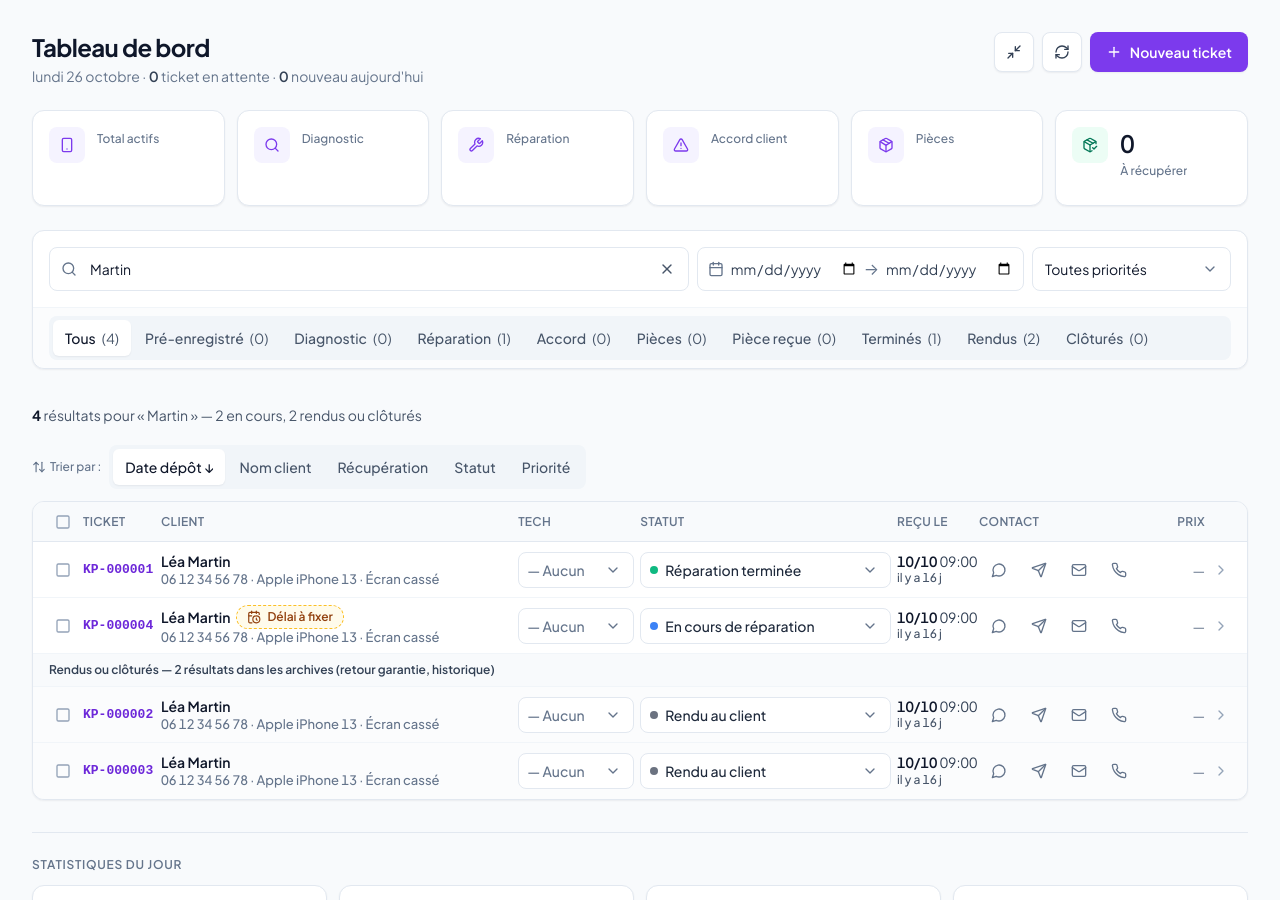
Scenario: DashboardPage : statut en ligne › déjà rendu et réglé, prêt dehors : 409 → panneau qui propose « Prêt récupéré »
Select "Clôturé" in the dropdown named "Statut du ticket KP-000002" at (766, 714), box [640,696,891,732]
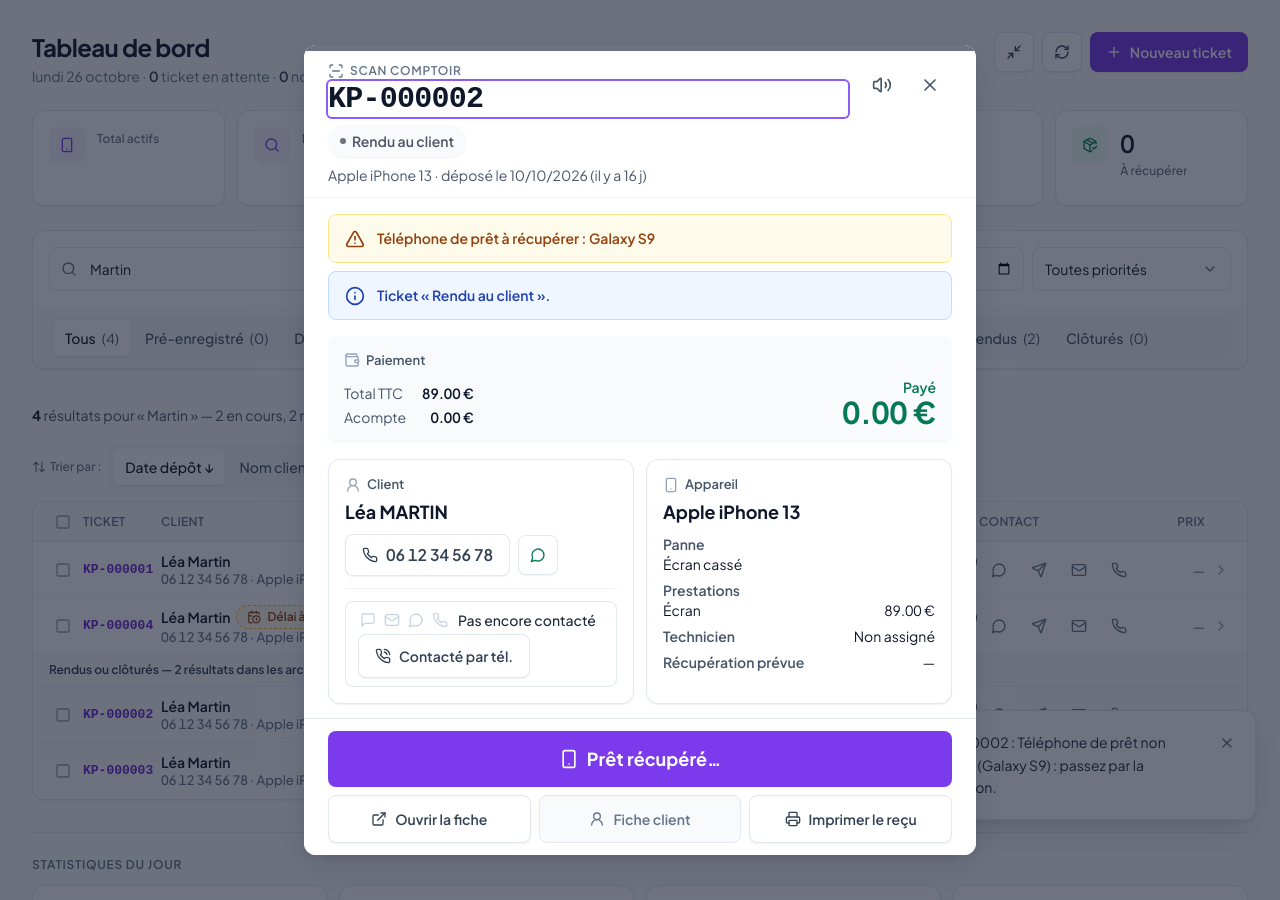
expect the text "Téléphone de prêt à récupérer : Galaxy S9" is shown: met, box [377,227,655,250]
Click the button "Prêt récupéré…" at (640, 759), box [328,731,952,787]
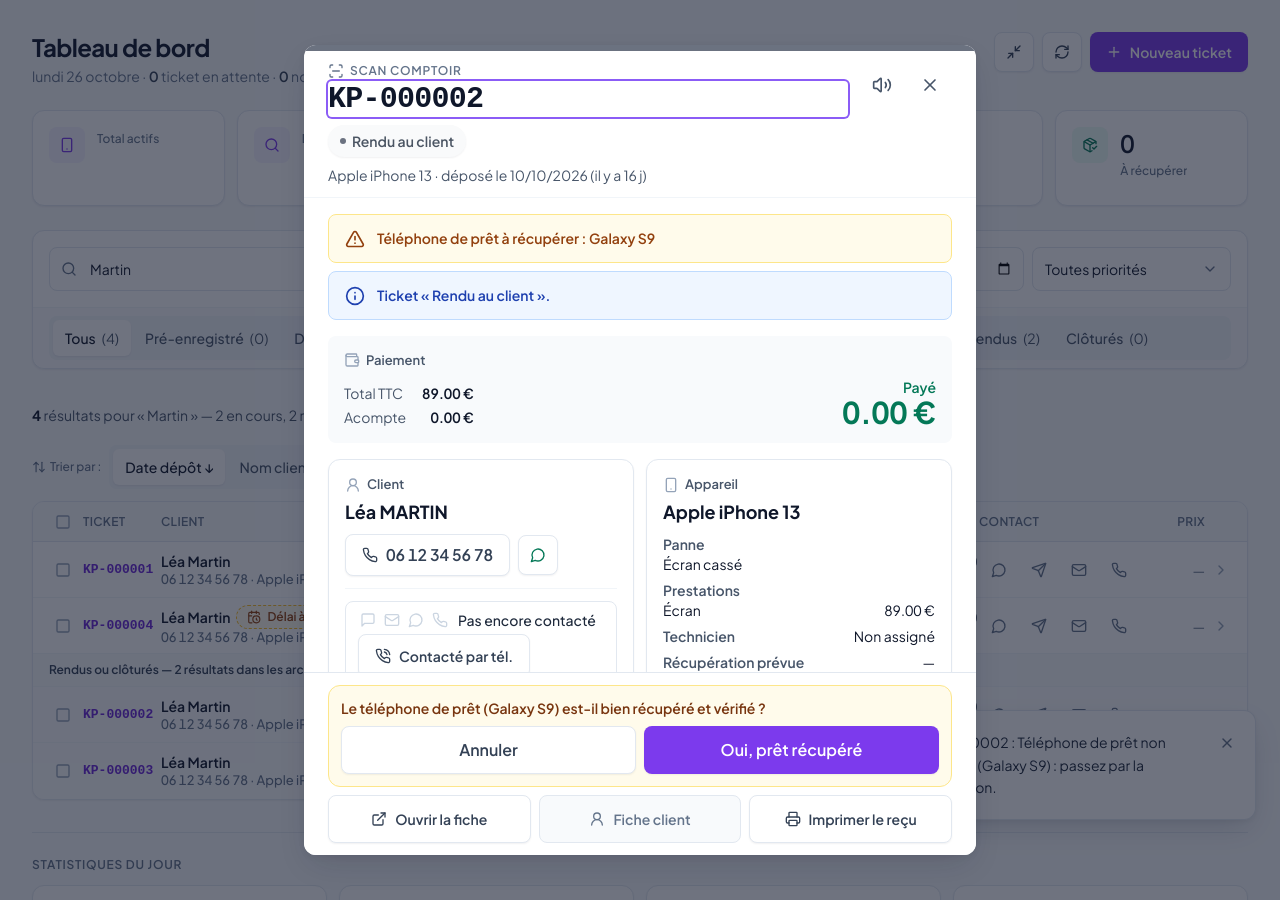
expect the text "Le téléphone de prêt (Galaxy S9) est-il bien récupéré et vérifié ?" is shown: met, box [341,699,766,717]
Click the button "Oui, prêt récupéré" at (792, 750), box [644,726,939,774]
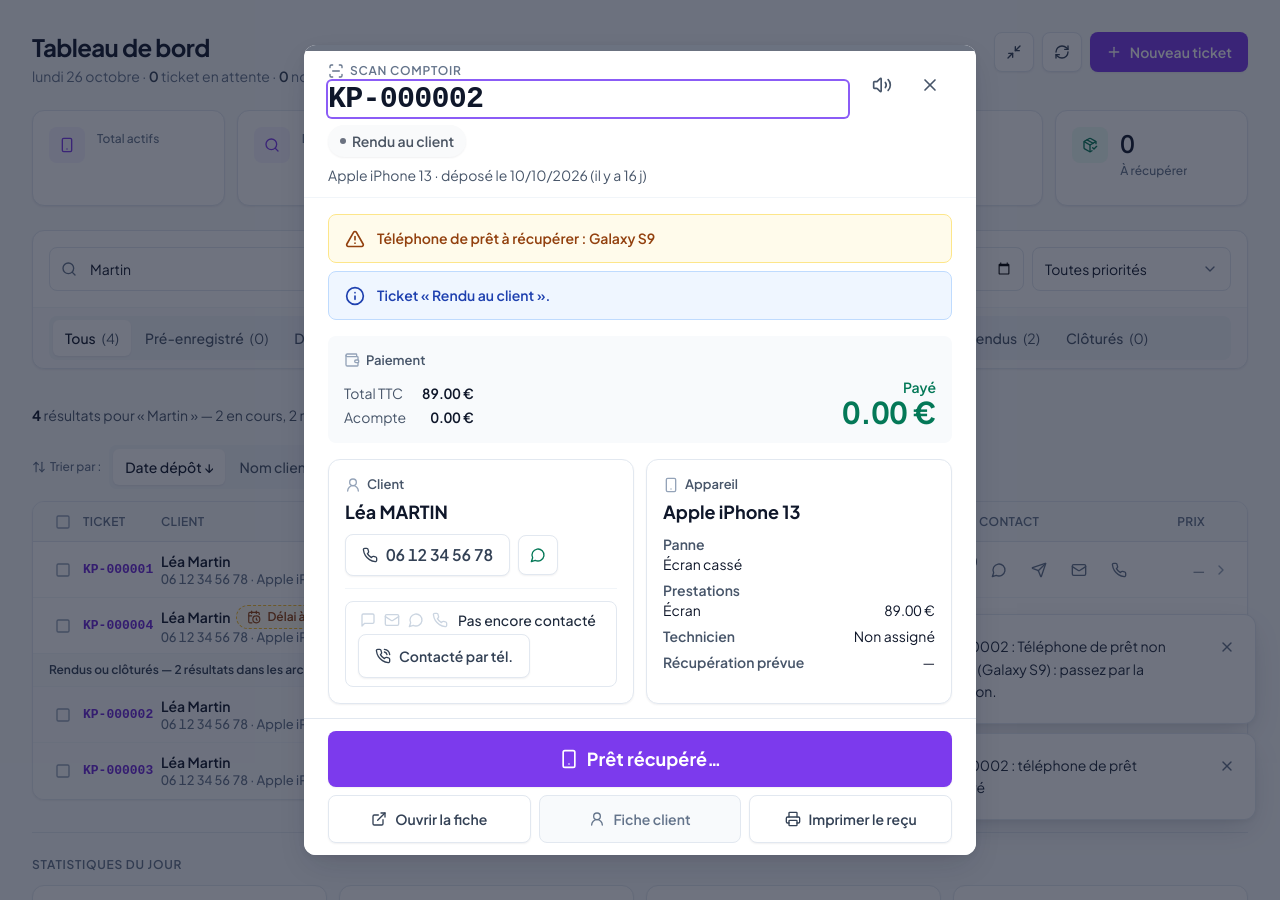
expect the text "KP-000002 : téléphone de prêt récupéré" is shown: met, box [924,756,1137,796]
